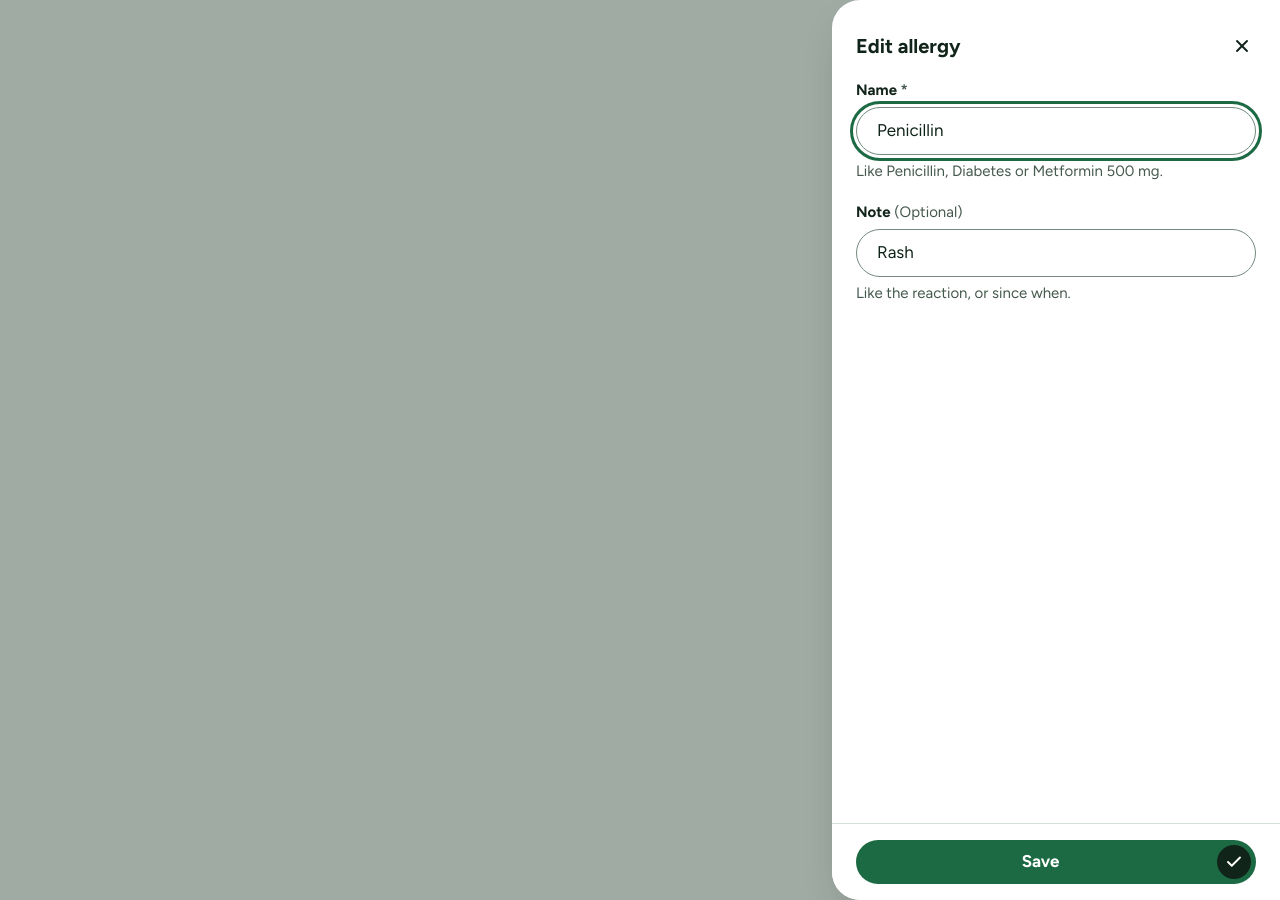
Test case: AlertSheet changing an alert (D119) › opens on it, its kind fixed, and saves its name and note
This screenshot has width=1280, height=900.
Expected: the field labelled "Note (Optional)" holds "Rash", x1=856 y1=229 x2=1256 y2=277
Replace the text in the field labelled "Name *" with "Amoxicillin" at (1056, 131), box x1=856 y1=107 x2=1256 y2=155
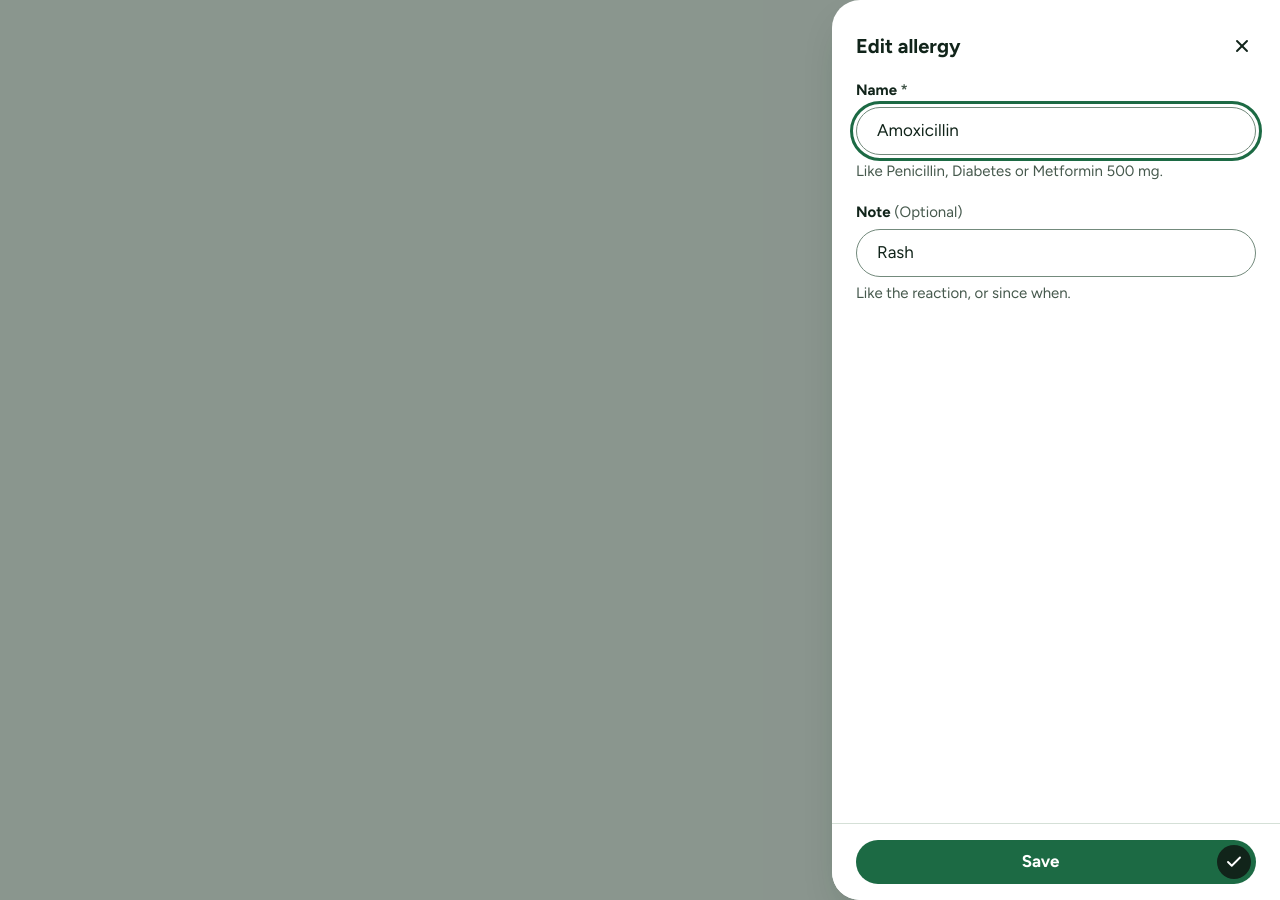
Click the button "Save" at (1056, 862), box x1=856 y1=840 x2=1256 y2=884
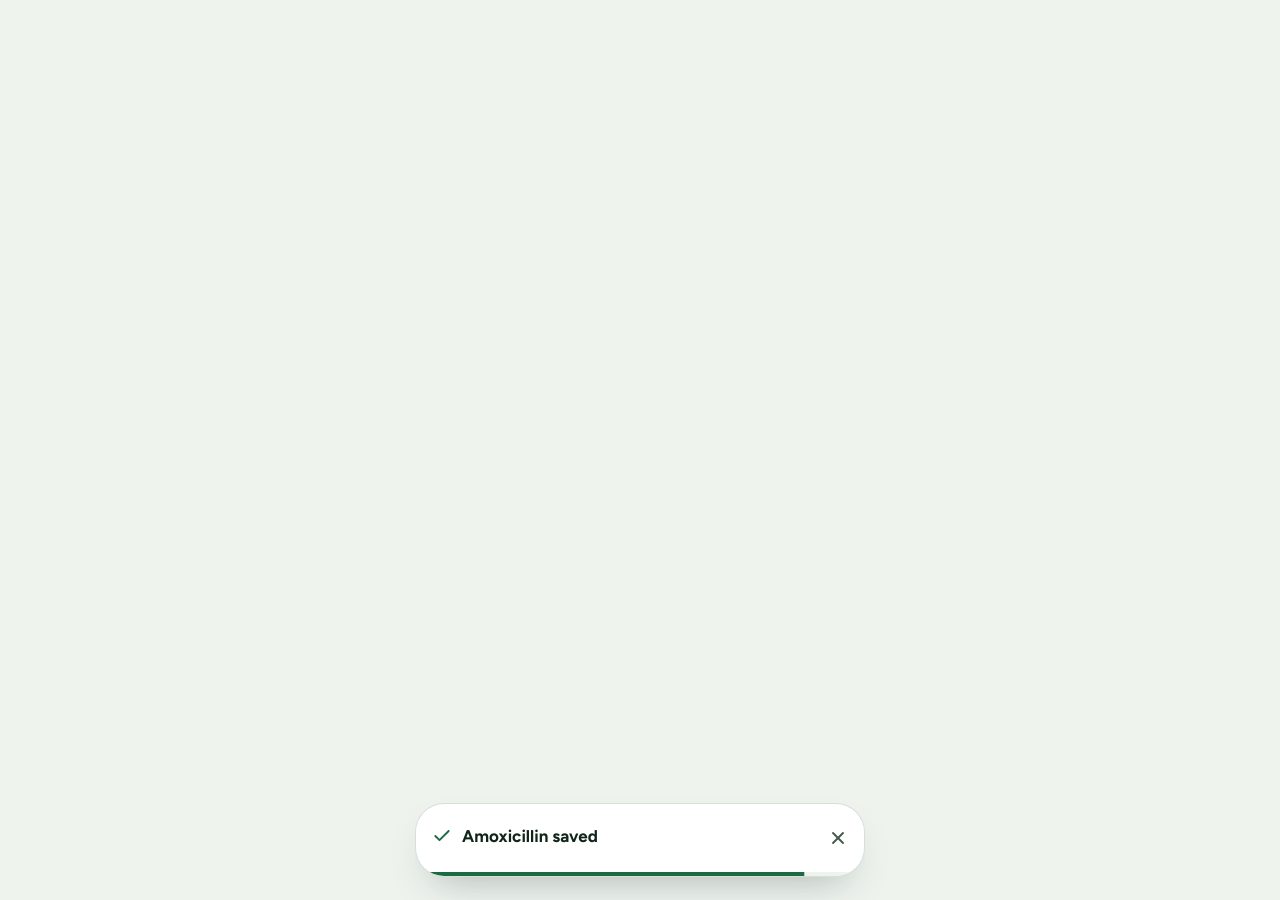
Result: the text "Amoxicillin saved" is shown at x1=462 y1=826 x2=598 y2=846
